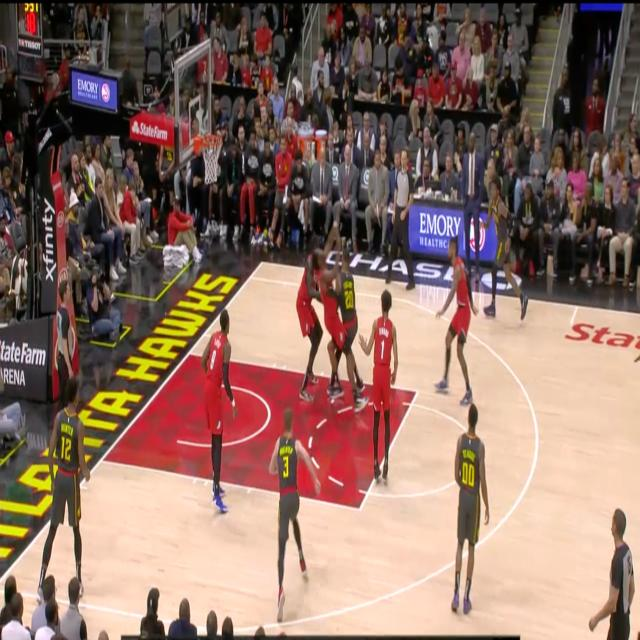Foul: (321, 253, 361, 378)
